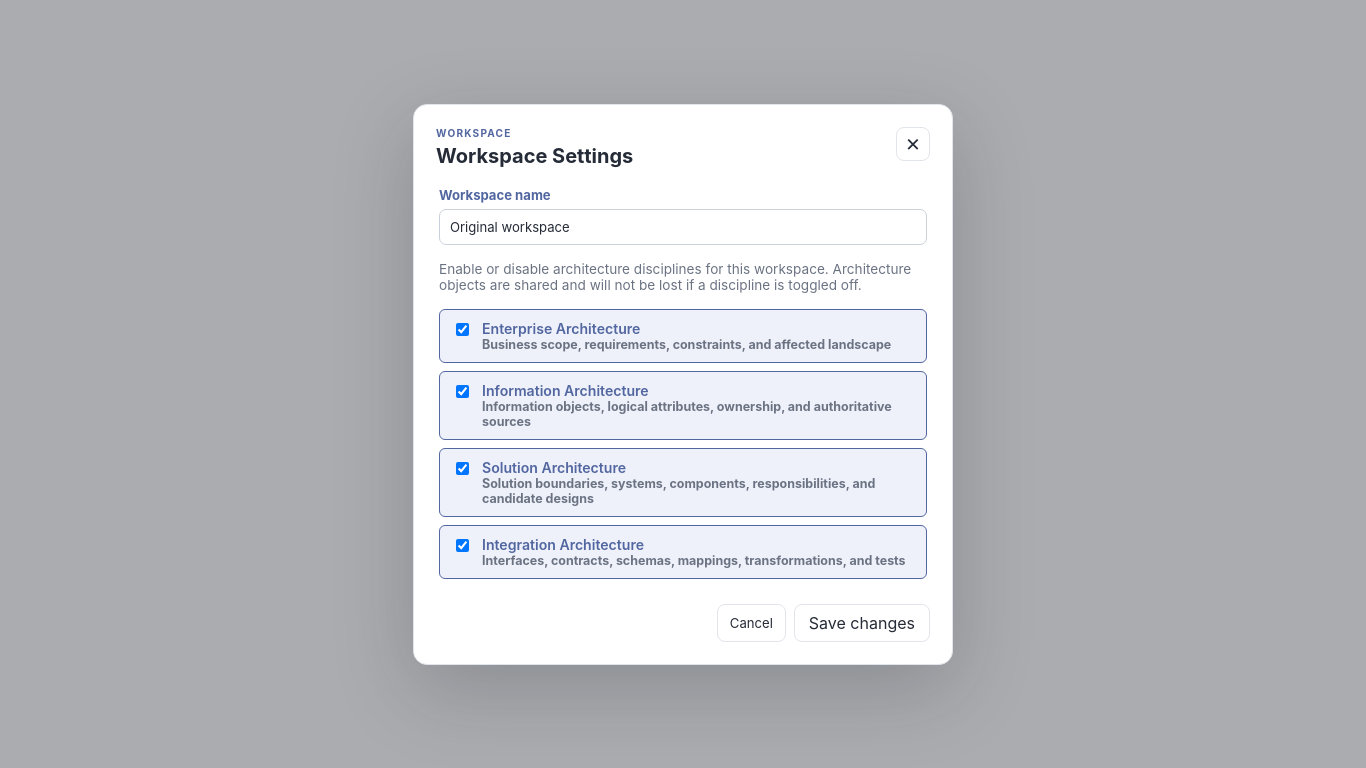
it: Workspace Settings › shows save errors and keeps edits open for retry
This screenshot has width=1366, height=768.
Replace the text in the field with "Duplicate". click: (683,226)
box: [439, 208, 927, 244]
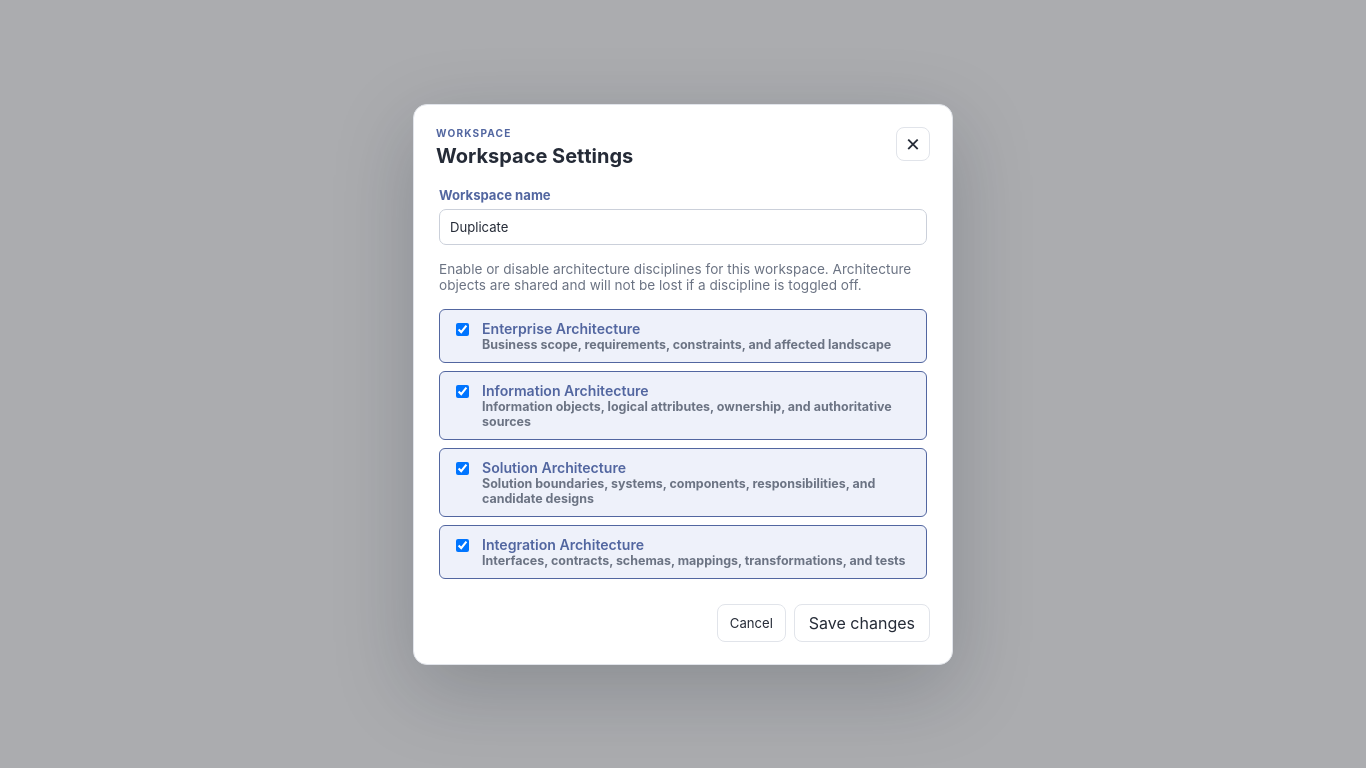
Click the button "Save changes". click: (862,622)
box: [794, 604, 930, 642]
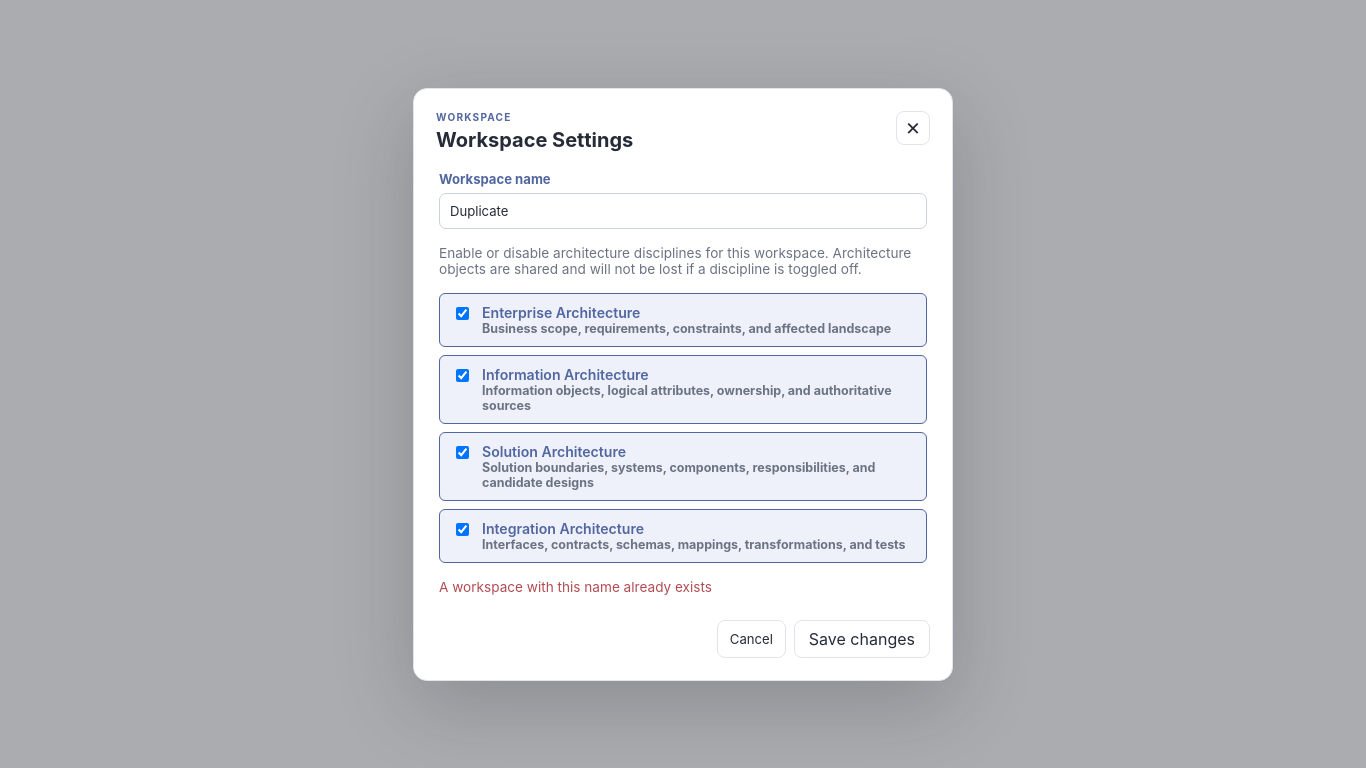
expect the message shows "already exists": met, box [439, 578, 712, 594]
